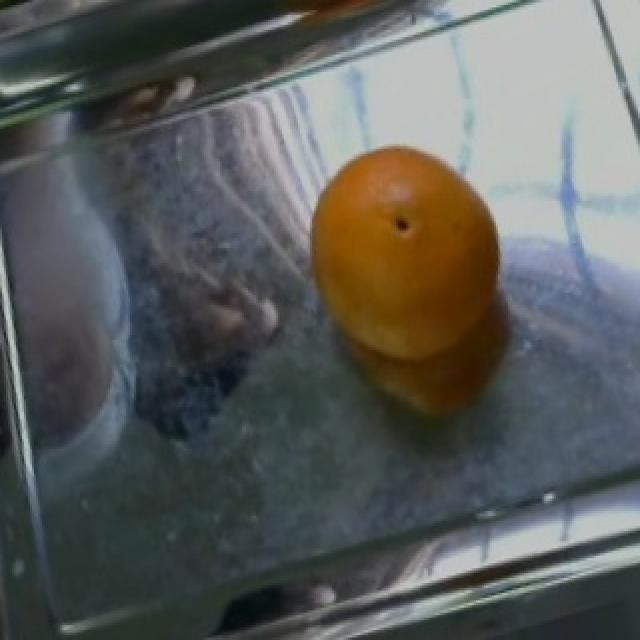Fruit: (278, 119, 528, 452)
